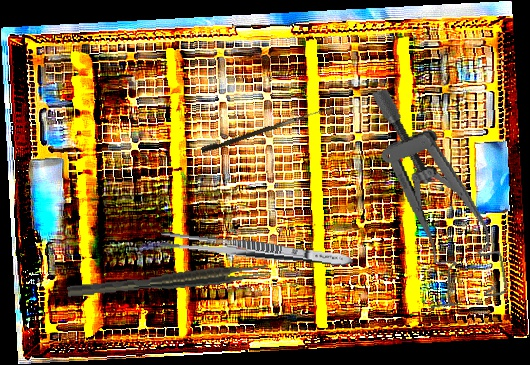Dressing Forceps: (157, 230, 354, 270)
Hook Surgical: (200, 100, 334, 156)
Speculum: (367, 73, 512, 315)
Tissue Forceps: (66, 262, 269, 298)
